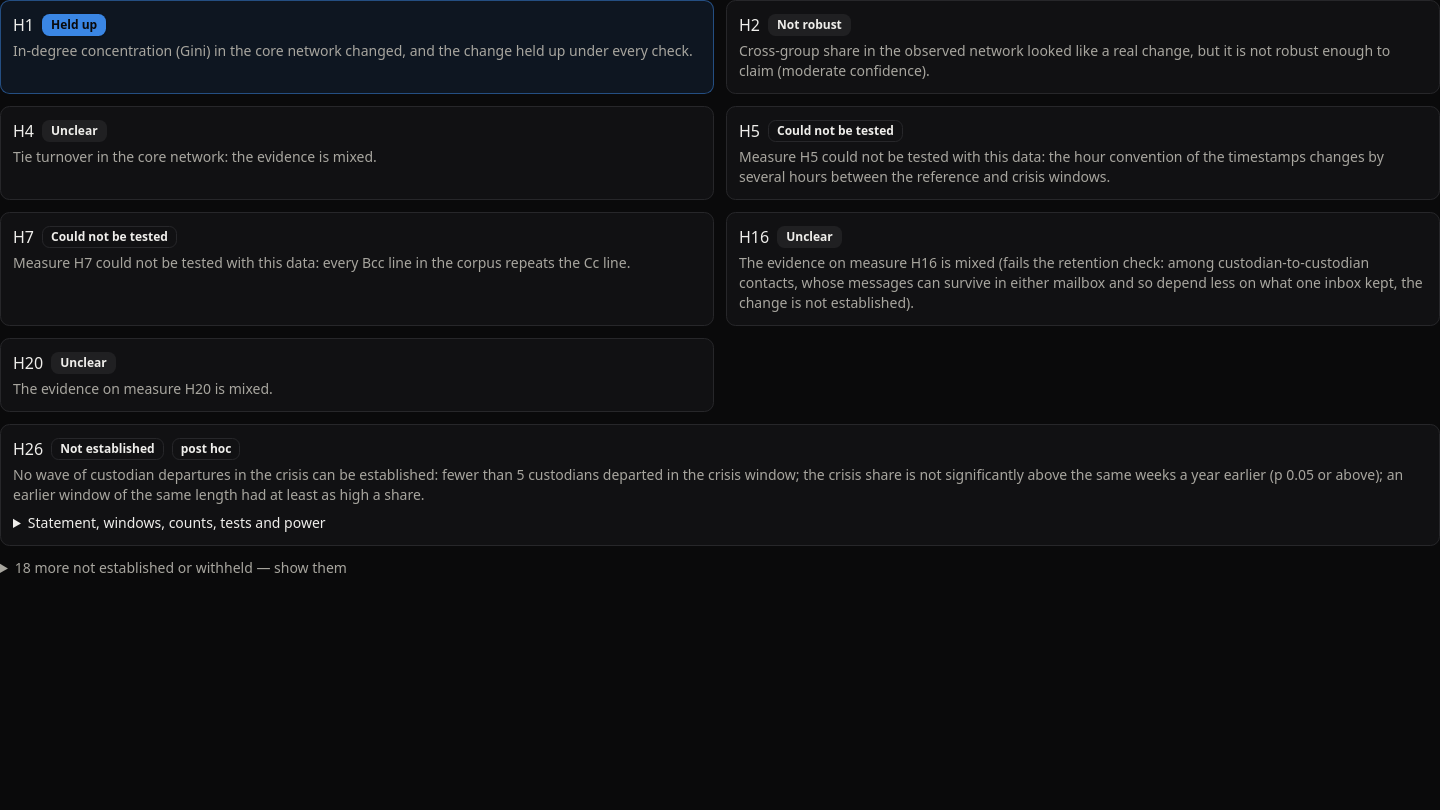
H26 in the Hypotheses view › never shows a count below 5: suppressed cells read 'fewer than 5'
The width and height of the screenshot is (1440, 810).
Step 1. Click the heading "Statement, windows, counts, tests and power" → x=177, y=522, box 28,513 -> 326,532
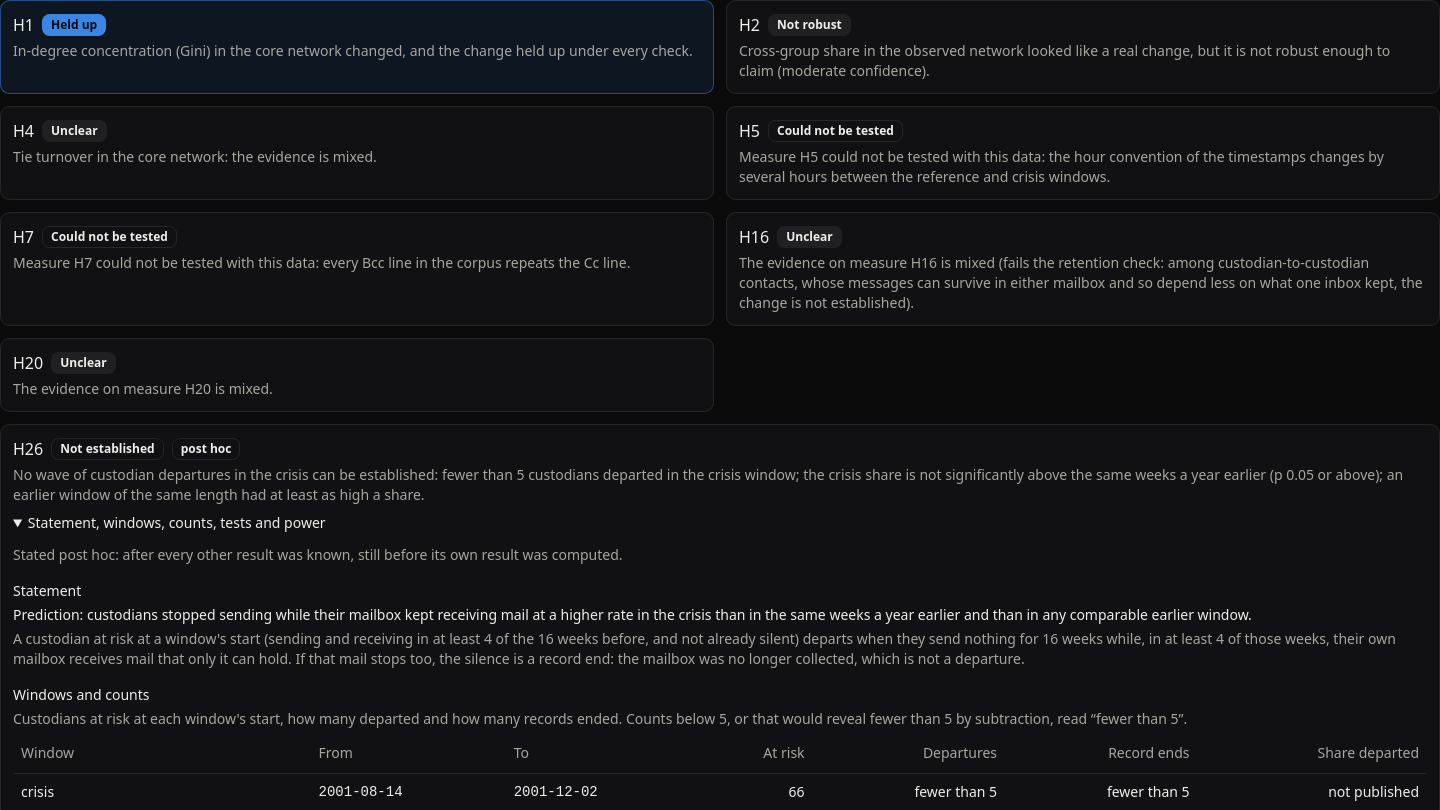
Expected: the 1st cell "fewer than 5" is shown, 813,773 -> 1005,809
